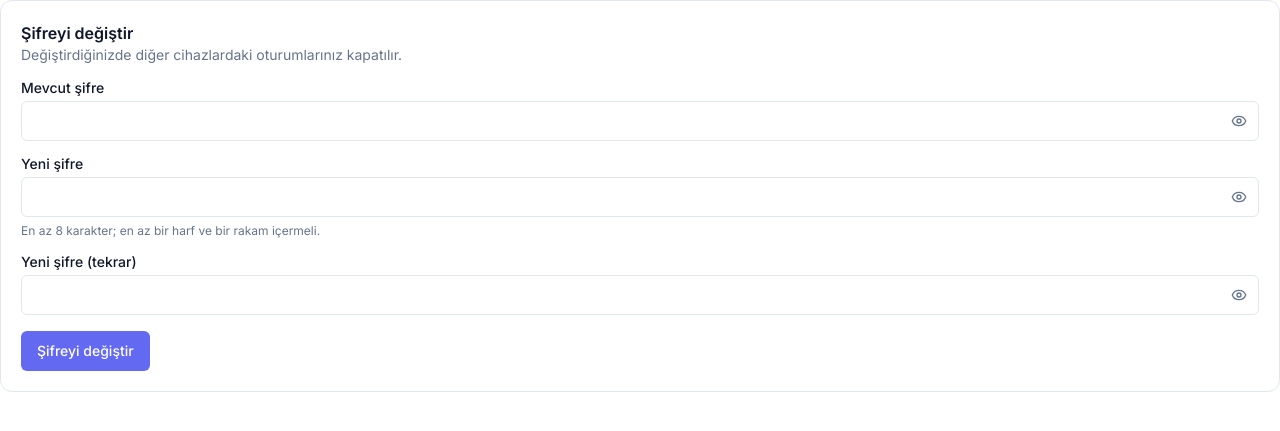
Test: GV-19: ChangePasswordSection › şifreler eşleşmezse API çağrılmaz
In the password field labelled "Mevcut şifre": (640, 121) [21,101,1259,141], type "Eski1234"
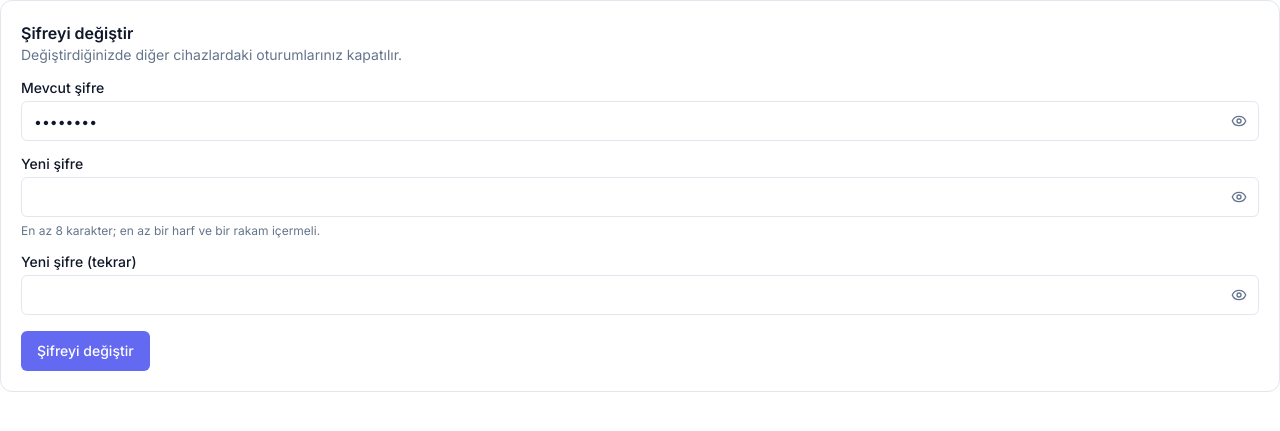
In the password field labelled "Yeni şifre": (640, 197) [21,177,1259,217], type "Yeni12345"
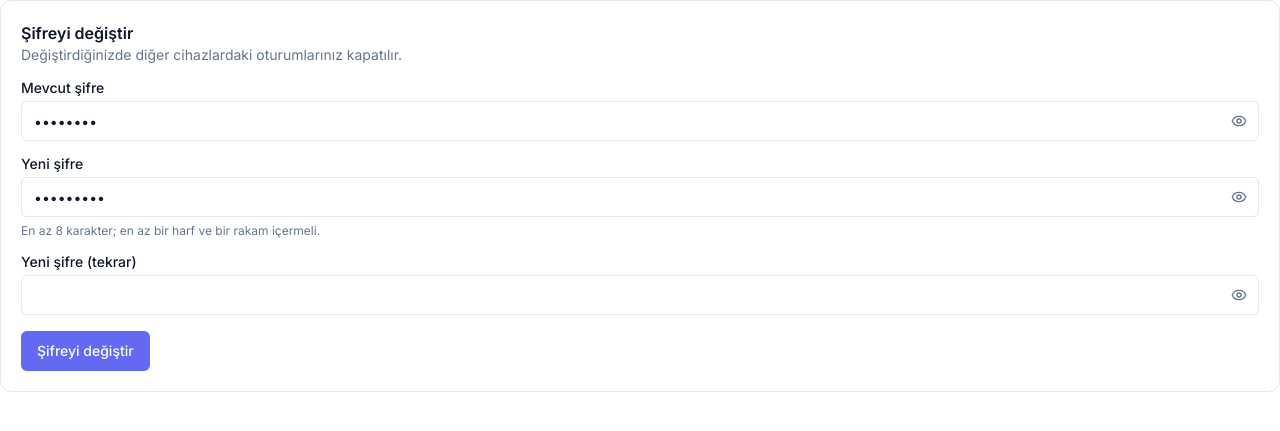
In the password field labelled "Yeni şifre (tekrar)": (640, 295) [21,275,1259,315], type "Yeni12346"
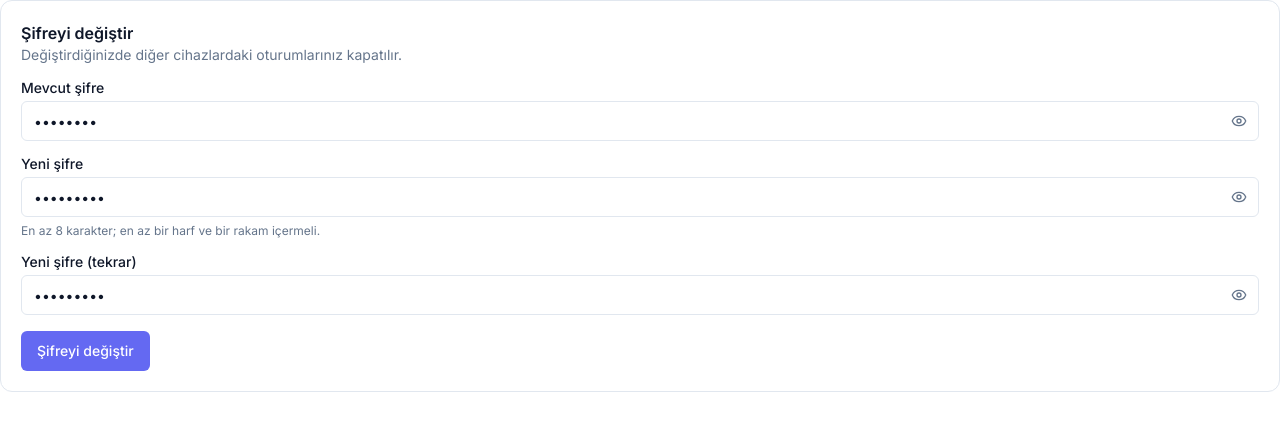
Click the button "Şifreyi değiştir": (85, 351) [21,331,150,371]
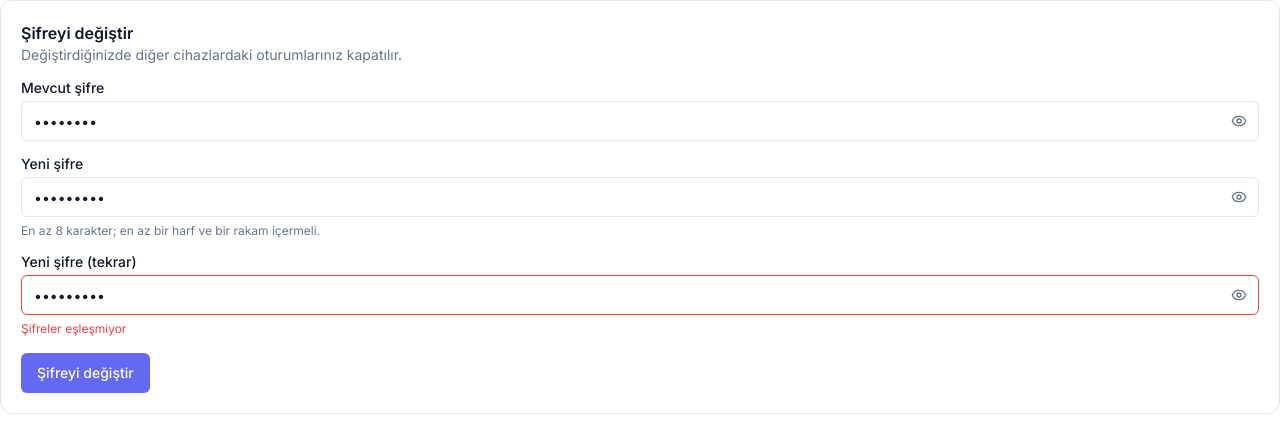
Now the text "Şifreler eşleşmiyor" is shown, box [21,321,126,336]
